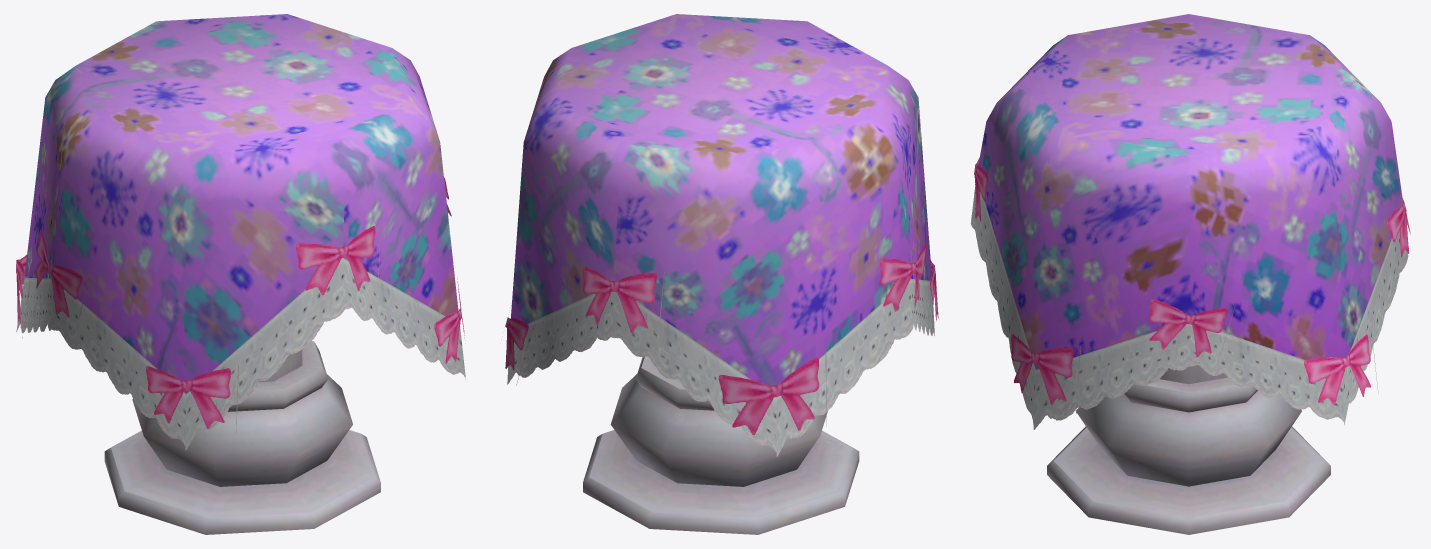
The model's file is furni_0200009_01.FBX.
3 renders of one model, left to right at view 1: azimuth 30°, elevation 25°; view 2: azimuth 150°, elevation 25°; view 3: azimuth 270°, elevation 25°, orthographic.
Visible parts, largest first — view 1: furni_0200009_01; view 2: furni_0200009_01; view 3: furni_0200009_01.
Boxes of the visible parts, x1,y1,x2,y2 form: furni_0200009_01: (16, 14, 465, 534); furni_0200009_01: (505, 14, 938, 534); furni_0200009_01: (970, 14, 1410, 534).
Bounding box in the file's own units: 83.54 × 80 × 83.53.
